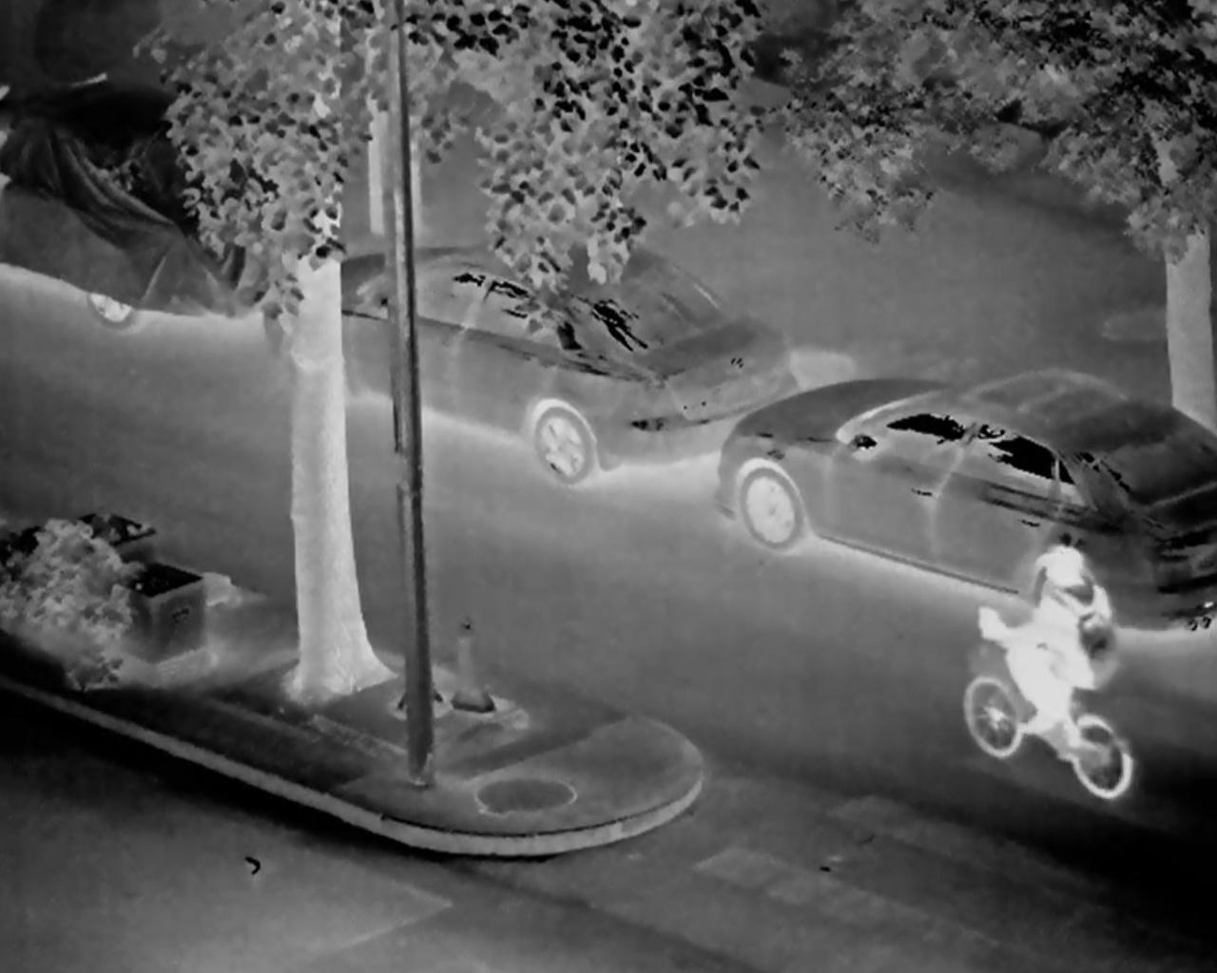person: (942, 549, 1133, 782)
